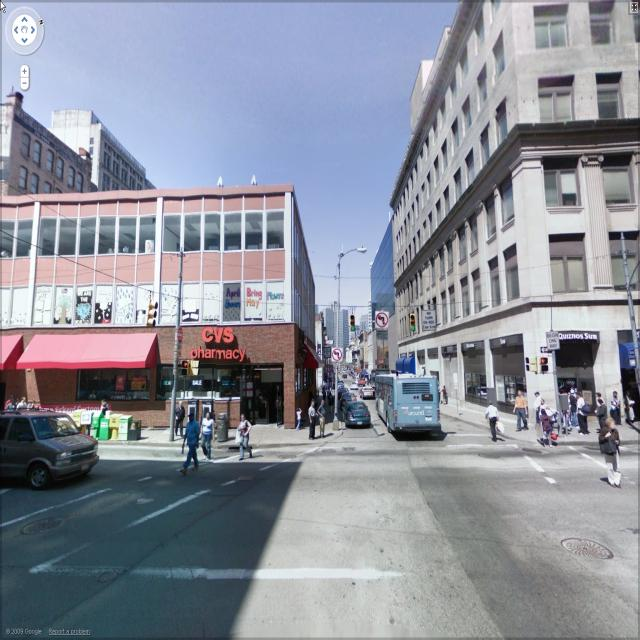b_1: (405, 3, 640, 385), (1, 194, 317, 434), (363, 207, 417, 397), (0, 110, 96, 206), (61, 115, 171, 197), (300, 290, 358, 384)
